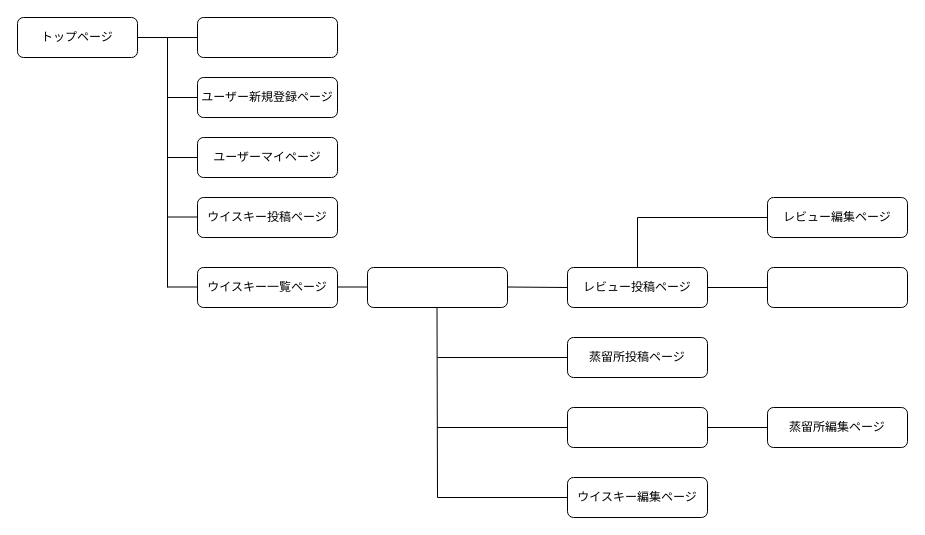
Some shapes in this 925 by 535 pixel diagram are drawn without their labels. Here are the shapes that lost their labels. From the top down, the centre of each, then its label:
[267,37]: ユーザーログインページ
[437,287]: ウイスキー詳細ページ
[837,287]: レビュー削除完了ページ
[637,427]: 蒸留所詳細ページ
